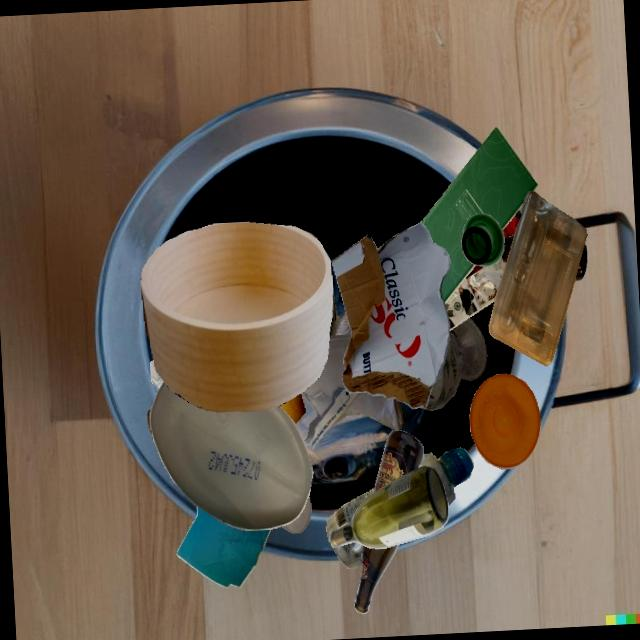biowaste: (280, 393, 306, 425)
cardboard: (331, 223, 451, 409)
combustible waste: (141, 222, 333, 412)
glass: (330, 466, 449, 549), (421, 318, 487, 411), (373, 430, 424, 493), (354, 544, 399, 614), (461, 213, 504, 267), (281, 495, 311, 533), (498, 234, 515, 264), (575, 244, 588, 281), (330, 293, 338, 336), (147, 410, 154, 441)
paper: (420, 127, 538, 304), (301, 335, 403, 450), (176, 506, 271, 588), (445, 260, 506, 331), (150, 360, 164, 391)
plastic: (150, 382, 313, 531), (489, 191, 587, 366), (351, 466, 433, 565), (470, 374, 541, 469), (433, 447, 474, 506)
